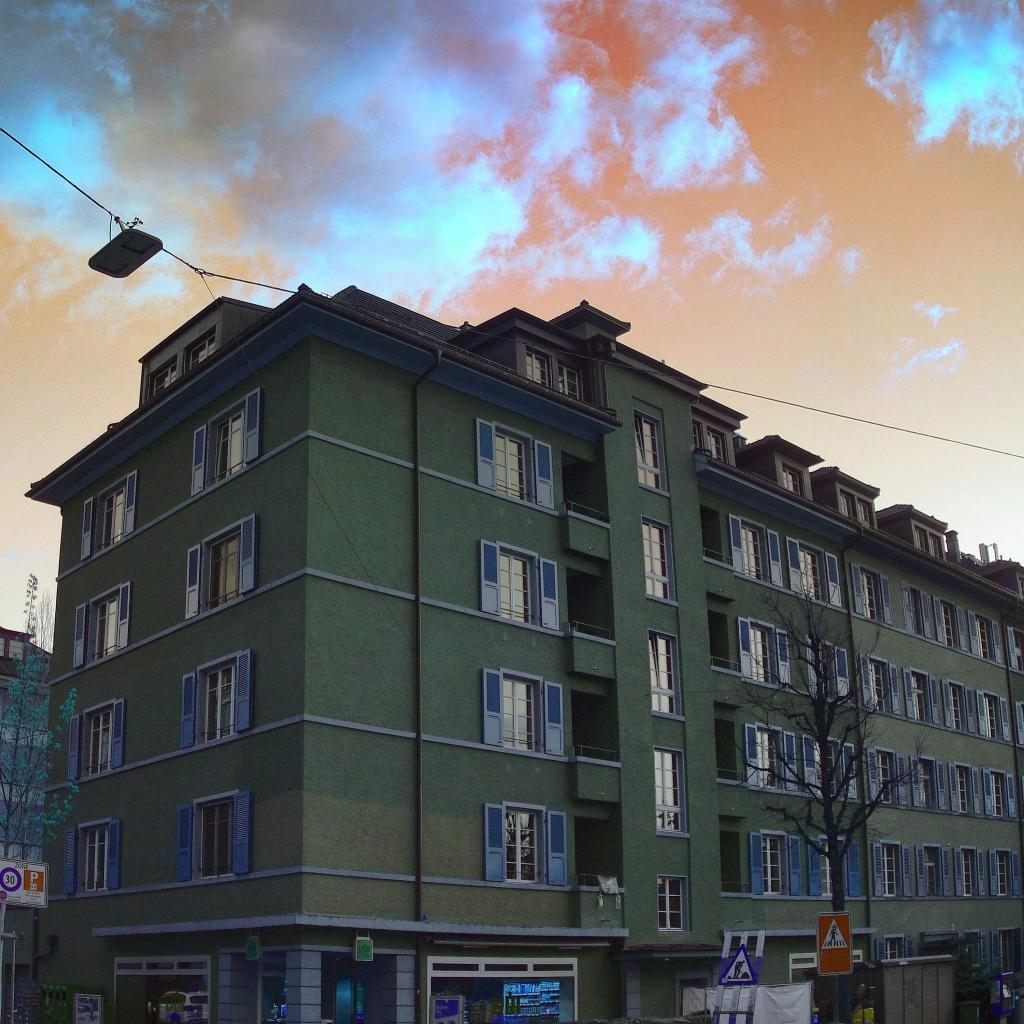balcony-fence: (558, 500, 608, 524), (564, 620, 613, 641), (569, 744, 620, 763), (576, 874, 624, 888), (703, 547, 733, 566), (710, 656, 743, 673), (716, 768, 747, 783), (721, 882, 752, 893)
facade: (0, 282, 1024, 1024)
non-building-infrastructure: (563, 953, 1024, 1024), (5, 978, 107, 1024)
shop: (113, 948, 578, 1024)
traffic-infrastructure: (0, 124, 299, 294), (0, 856, 52, 1024), (711, 929, 766, 1024)
vegetation: (696, 556, 932, 1024), (0, 569, 83, 1024), (920, 935, 1001, 997)
window: (199, 798, 234, 879), (654, 748, 685, 833), (209, 528, 241, 610), (503, 675, 537, 752), (506, 809, 539, 885), (500, 548, 532, 626), (205, 662, 235, 741), (214, 407, 245, 483), (496, 429, 528, 501), (642, 520, 670, 600), (650, 634, 676, 714), (635, 414, 662, 490), (88, 706, 113, 777), (101, 483, 126, 550), (85, 824, 108, 892), (95, 595, 119, 660), (658, 876, 684, 930), (820, 841, 844, 896), (757, 729, 778, 788), (762, 836, 783, 895), (816, 742, 837, 797), (188, 330, 215, 370), (152, 359, 177, 398), (526, 348, 549, 388), (558, 363, 580, 400), (789, 952, 817, 981), (877, 752, 892, 804), (882, 847, 897, 897), (918, 761, 933, 808), (924, 848, 938, 897), (990, 773, 1004, 818), (995, 852, 1008, 896), (961, 850, 973, 897), (707, 430, 724, 462), (783, 466, 801, 496), (956, 769, 968, 814), (999, 932, 1011, 973), (840, 491, 853, 519), (9, 639, 25, 659), (859, 500, 870, 526), (930, 533, 941, 559), (916, 526, 926, 551), (886, 939, 898, 958), (692, 423, 700, 450), (1019, 577, 1024, 598), (0, 638, 5, 657), (854, 949, 863, 959)
